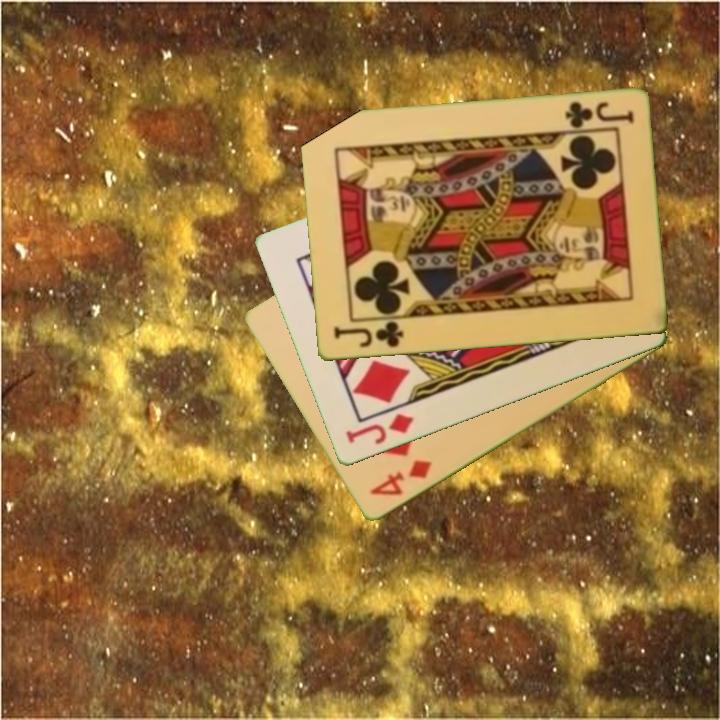4d: (366, 456, 435, 500)
Jc: (329, 318, 406, 351), (561, 98, 636, 131)
Jd: (342, 410, 416, 448)
